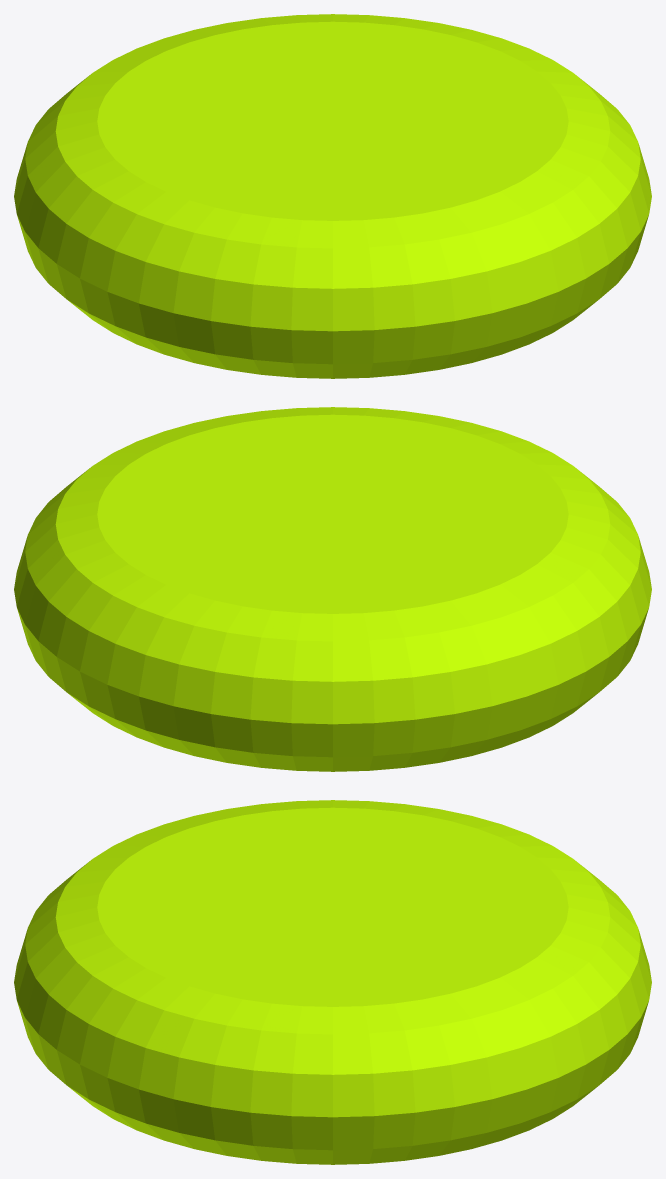
File: doughnut.glb
The picture shows the model from 3 angles, top to bottom: view 1: azimuth 30°, elevation 25°; view 2: azimuth 150°, elevation 25°; view 3: azimuth 270°, elevation 25°; orthographic projection.
Visible parts, largest first — view 1: Torus; view 2: Torus; view 3: Torus.
Part boxes in pixels (<box>): Torus: <box>14,14,651,378</box>; Torus: <box>14,407,651,771</box>; Torus: <box>14,800,651,1164</box>.
Bounding box in the file's own units: 2.7 × 0.702 × 2.7.
